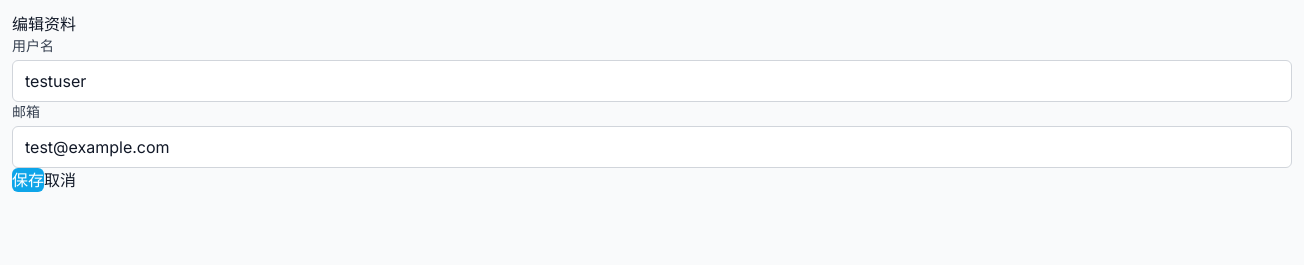
it: ProfileForm - 提交失败场景 › 应该处理用户名已存在的错误 (409)
Replace the text in the field labelled "用户名" with "existinguser" at (652,81), box [12,60,1292,102]
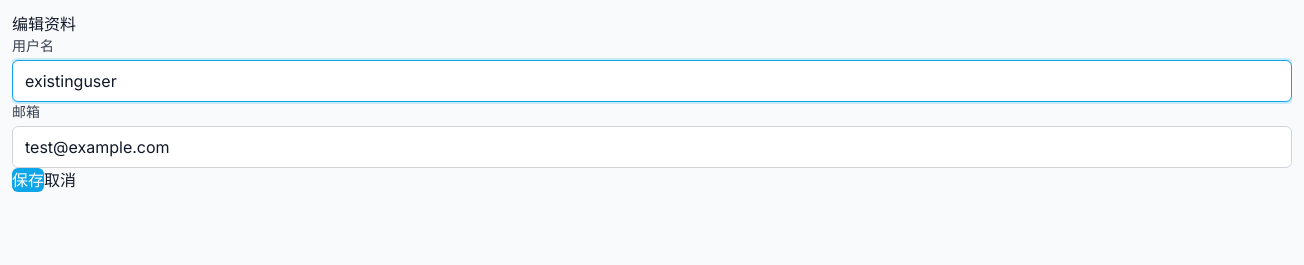
Click the button "保存" at (28,180), box [12,168,44,192]
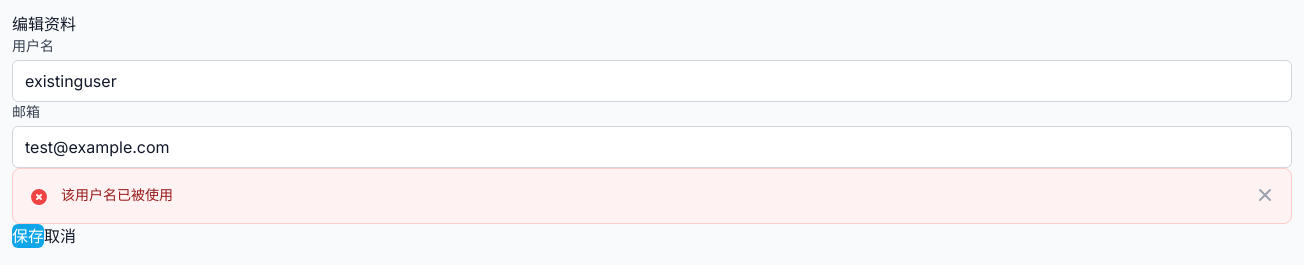
Expected: the text "该用户名已被使用" is shown, [61,186,173,203]
